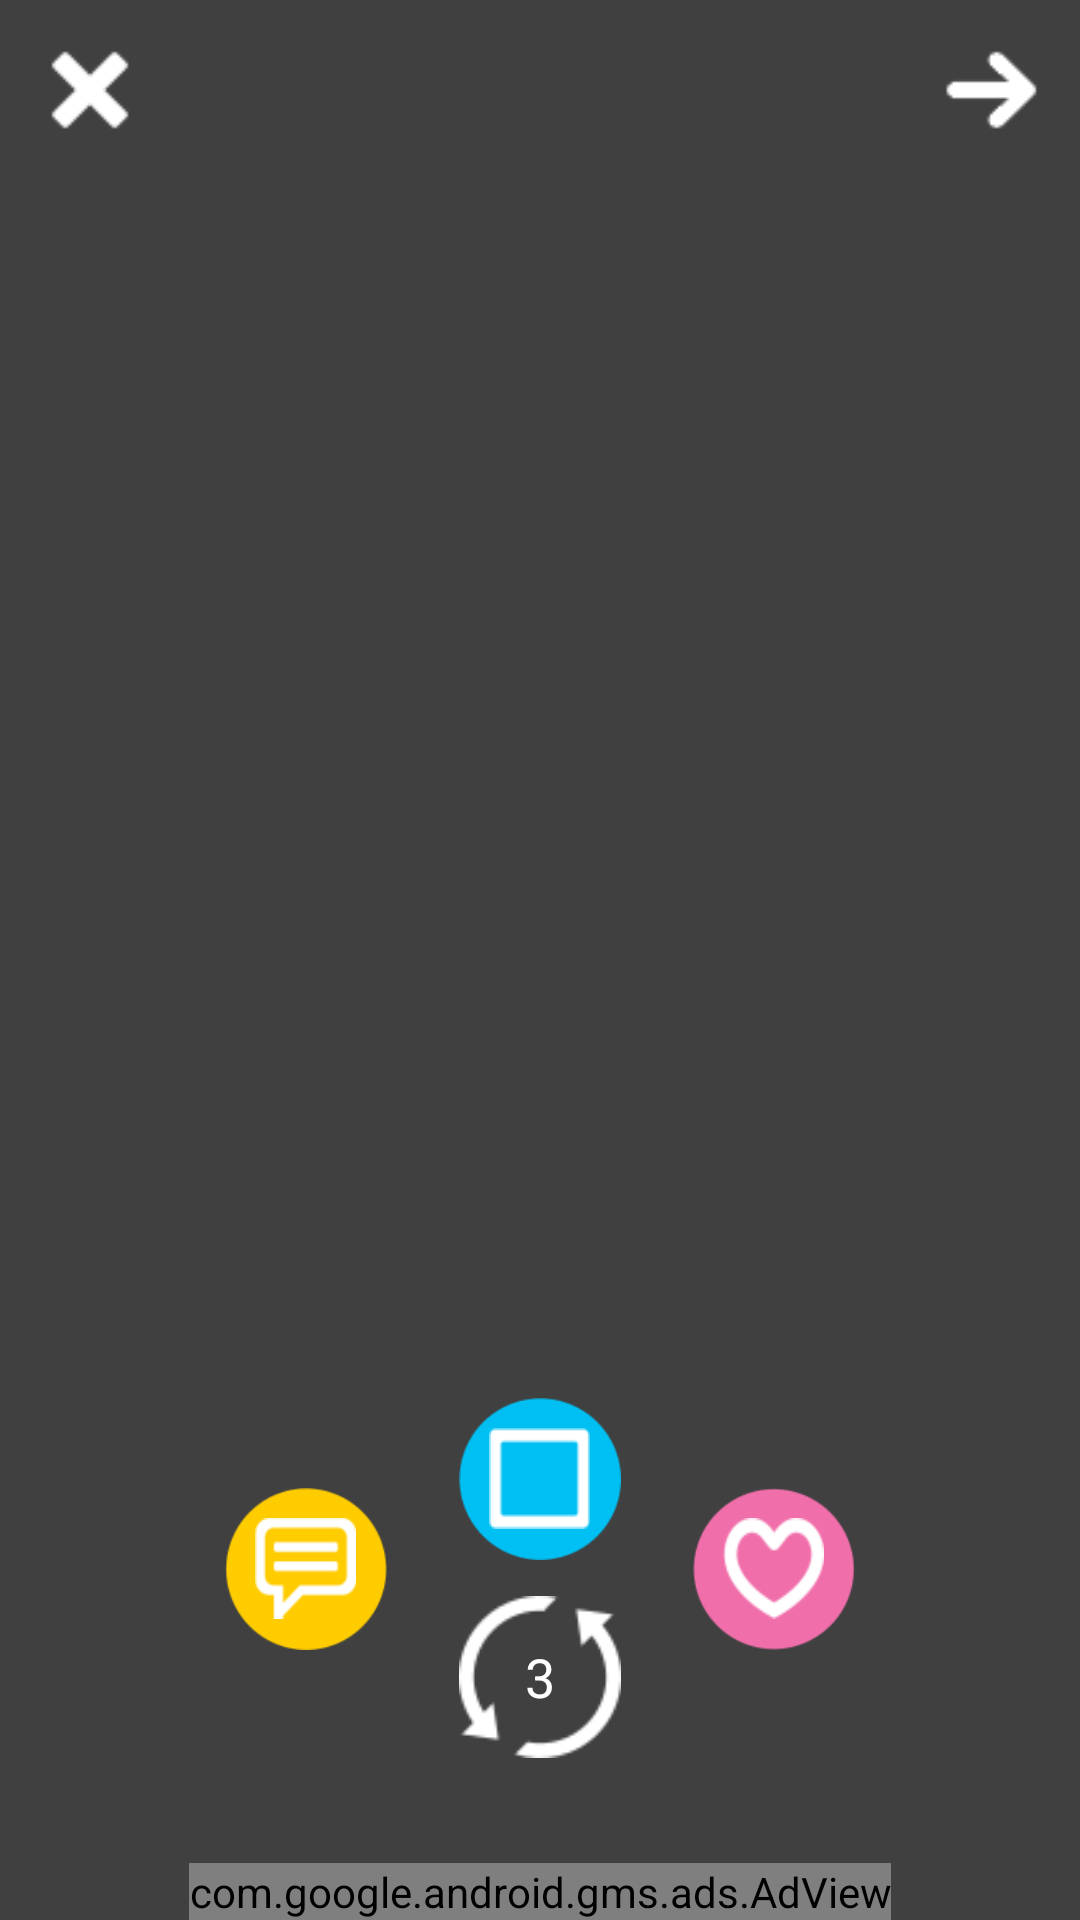

Icons on this 1080×1920 Android screen, each with the point to tap as (x=x, y=y):
close clickable: (x=90, y=90)
forward clickable: (x=991, y=90)
heart: (x=773, y=1568)
refresh clickable: (x=540, y=1677)
